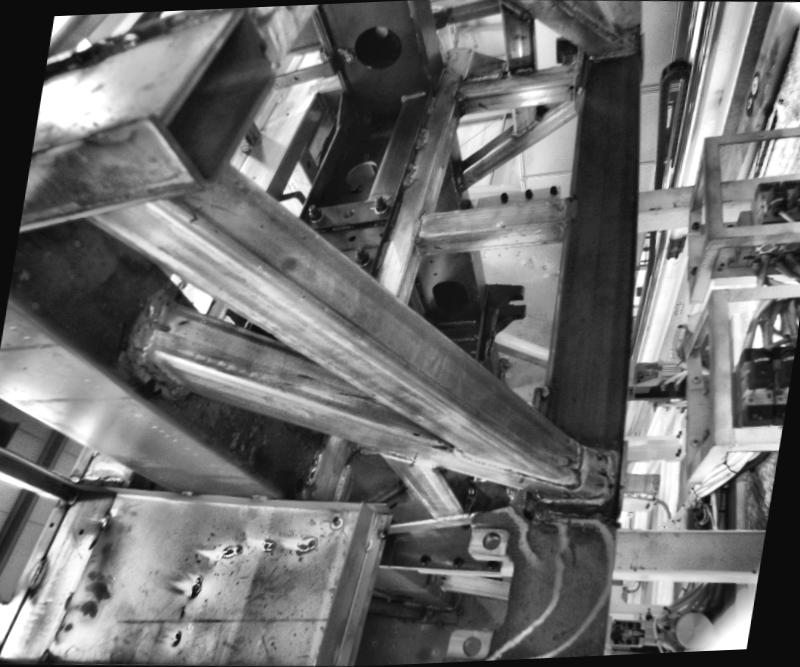bracket: (472, 276, 531, 369)
hole: (460, 634, 483, 656), (151, 318, 176, 336), (478, 530, 502, 548), (76, 528, 86, 537), (48, 520, 55, 530)
welding: (142, 296, 176, 364), (531, 492, 625, 511), (609, 453, 625, 508), (27, 556, 48, 593), (576, 440, 590, 493), (174, 488, 198, 504), (414, 213, 423, 242), (248, 494, 274, 504), (102, 515, 113, 527)
